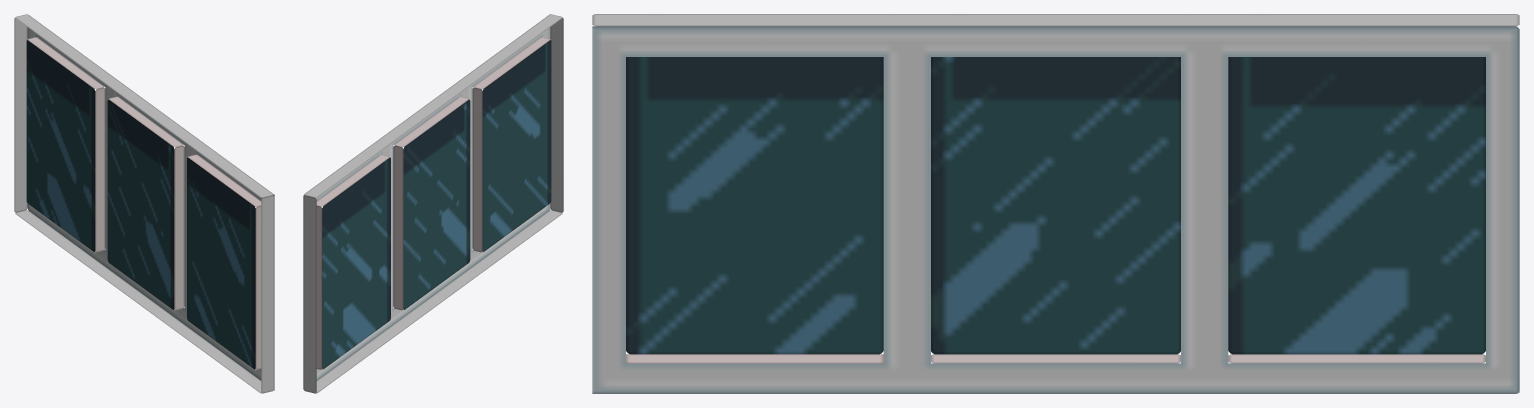
Rendered from WindowWhite3.fbx.
3 renders of one model, left to right at view 1: azimuth 30°, elevation 25°; view 2: azimuth 150°, elevation 25°; view 3: azimuth 270°, elevation 25°, orthographic. The views are drawn at different scales.
Parts seen in each view (by area): view 1: plane; view 2: plane; view 3: plane.
Part boxes in pixels (x1=…): plane: x1=14, y1=14, x2=274, y2=393; plane: x1=303, y1=14, x2=563, y2=393; plane: x1=592, y1=14, x2=1519, y2=393.
Bounding box in the file's own units: 6.25 × 87.5 × 200.
Materials: 1 (1 with a texture image).
